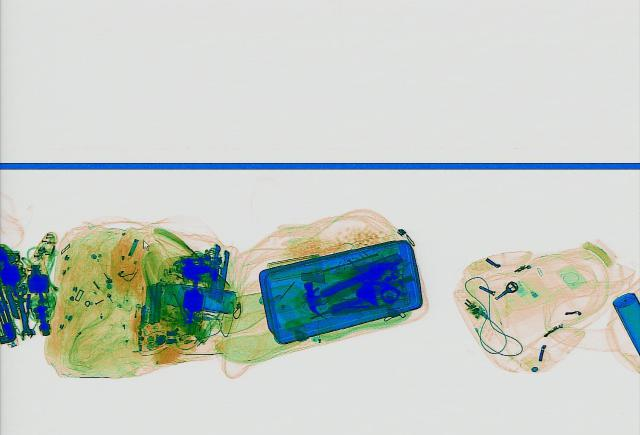Wrench: (11, 290, 35, 339)
